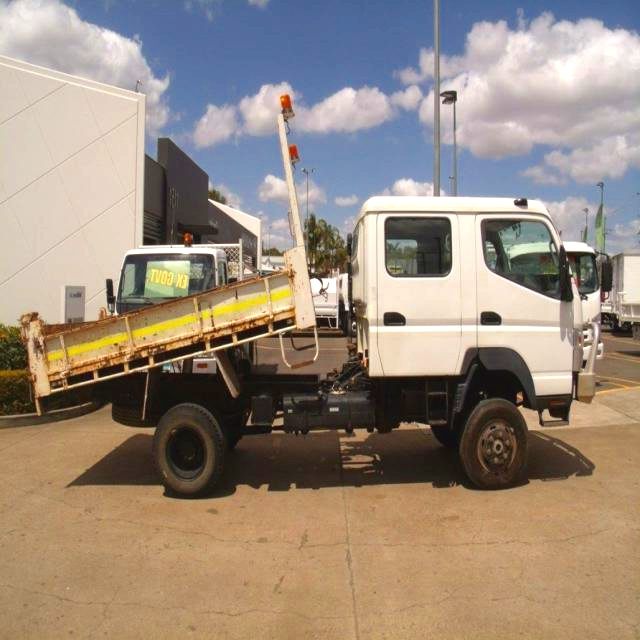truck: (18, 89, 626, 503)
